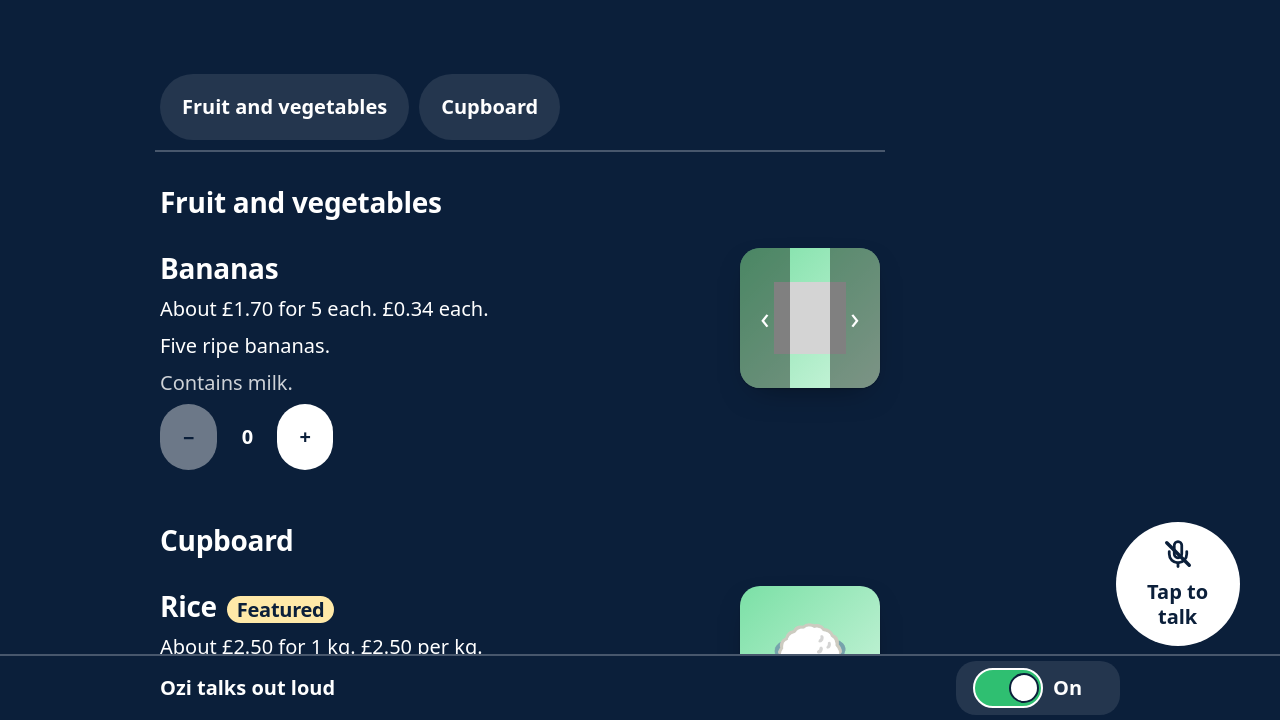
the shop page › groups by category, puts featured first, shows the gallery, the unit price and the allergens, and chooses a size
This screenshot has width=1280, height=720.
(page scrolled)
Expected: the text "Five ripe bananas." is shown, [160,332,330,359]
Expected: the text "Contains milk." is shown, [160,369,293,396]
Click the button named "Next photo of Bananas" at (855, 318), box [830,248,880,388]
(page scrolled)
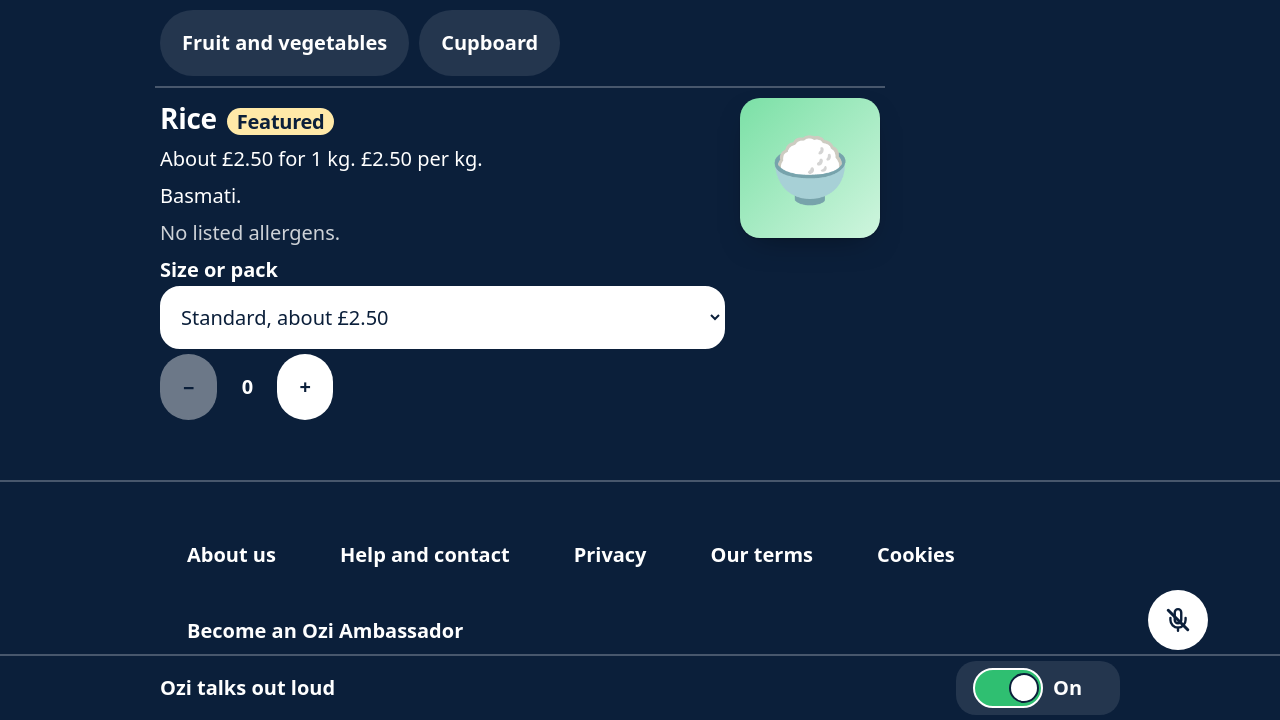
Expected: the text "Featured" is shown, [227,108,334,135]
Select "5 kg, about £8.00" in the dropdown labelled "Size or pack" at (442, 318), box [160,286,725,350]
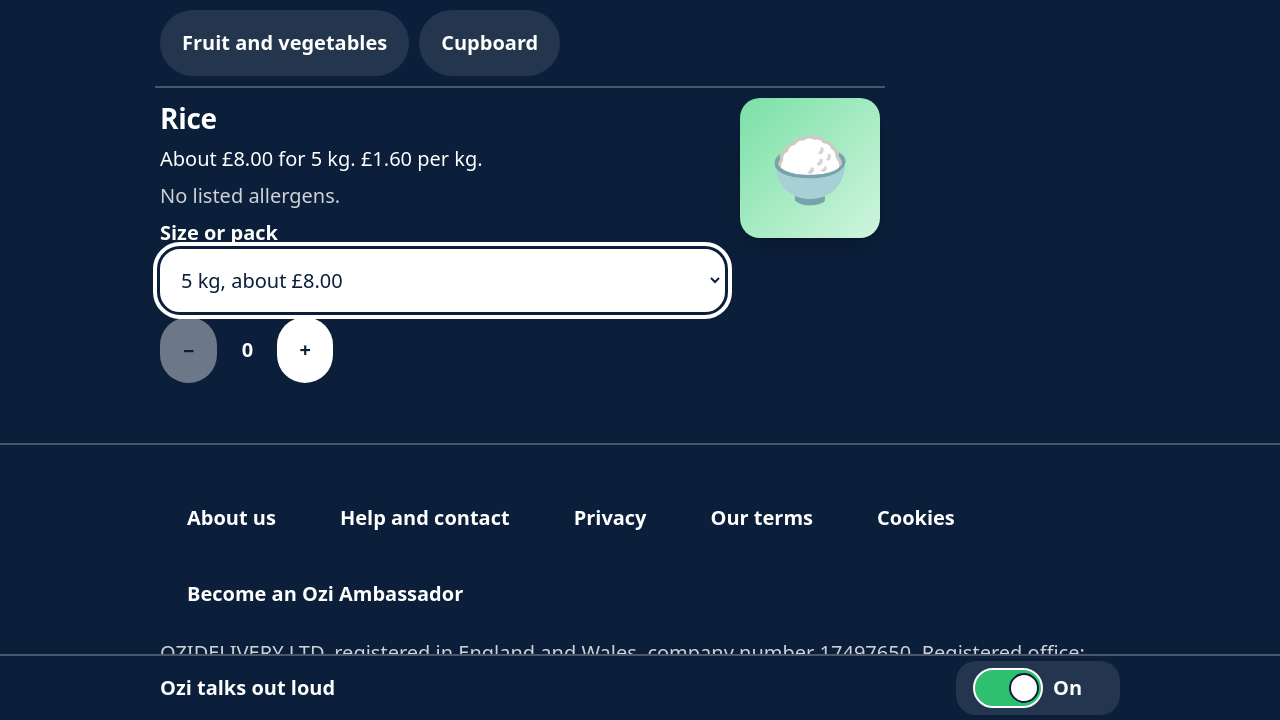
Expected: the button named "One fewer Rice, 5 kg" is disabled, [160,318,218,384]
Expected: the text "About £8.00 for 5 kg. £1.60 per kg." is shown, [160,146,483,172]
Click the button named "Add to my basket: Rice, 5 kg" at (305, 350), box [278,318,333,384]
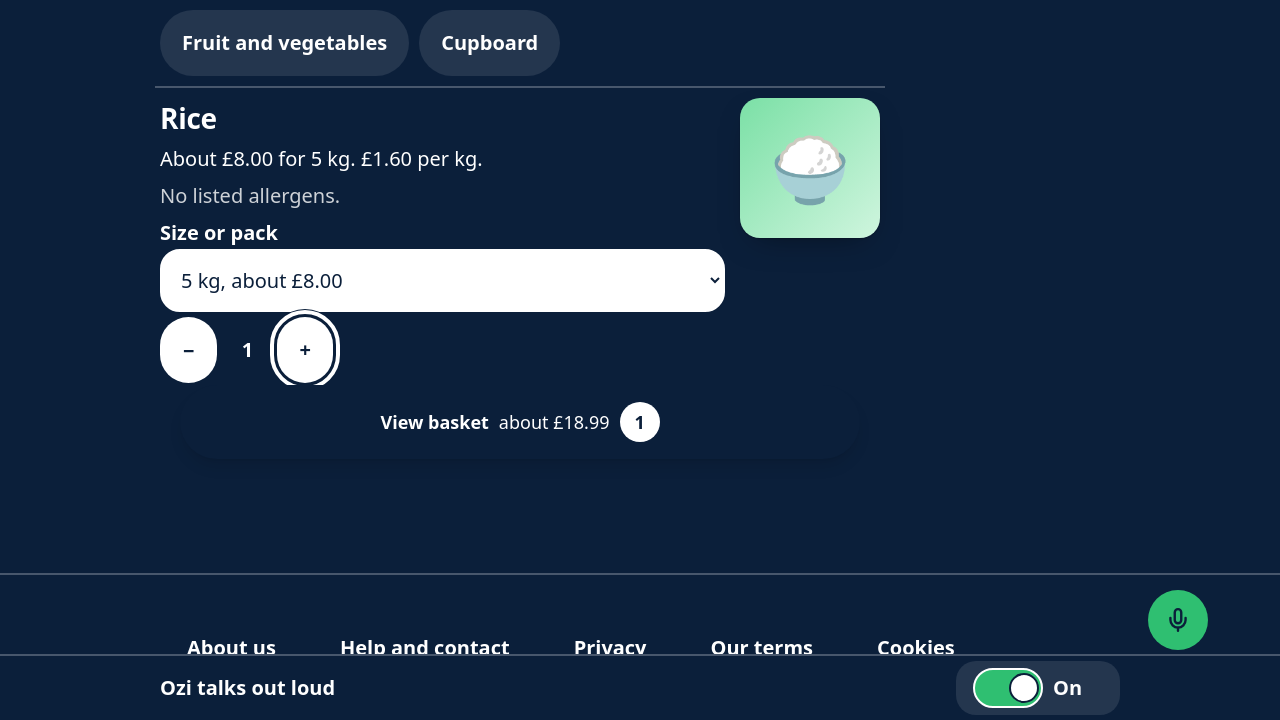
Expected: the text "1" below "Size or pack" is shown, [242,336,253,364]
Click the button named "One more Rice, 5 kg" at (305, 350), box [278,318,333,384]
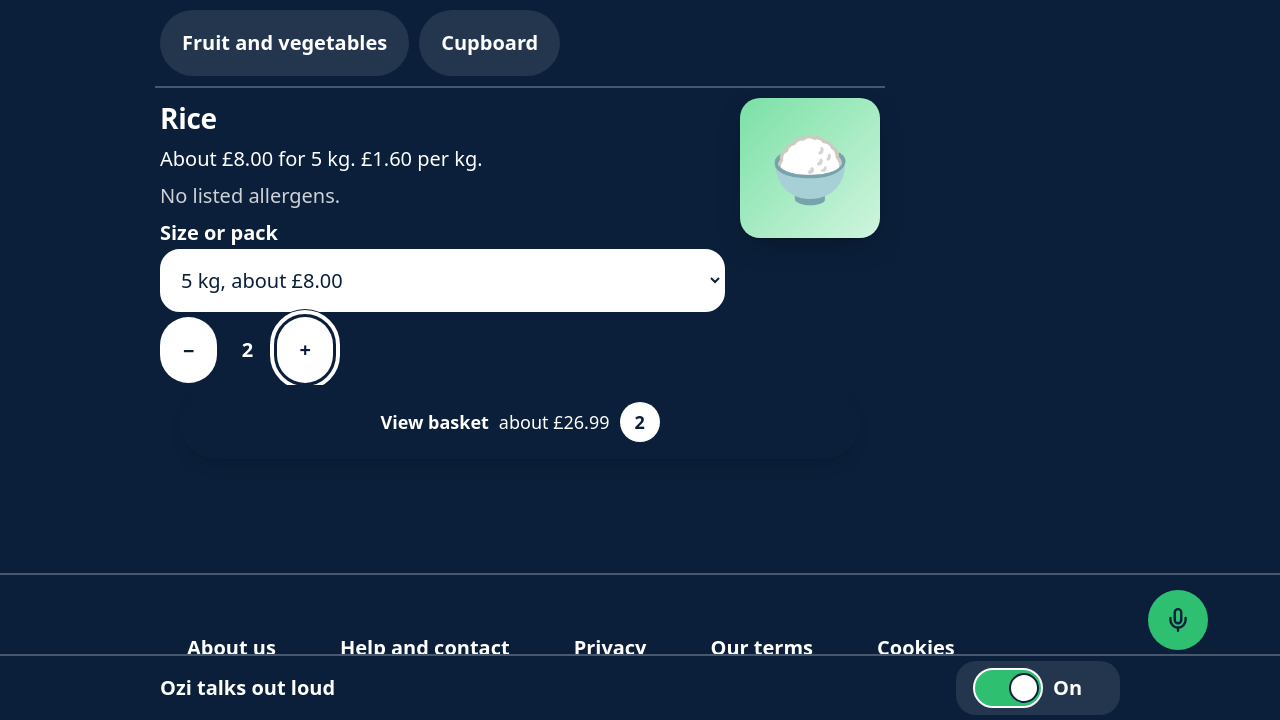
Expected: the text "2" below "Size or pack" is shown, [242,336,253,364]
Click the button named "One fewer Rice, 5 kg" at (189, 350), box [160,318,218,384]
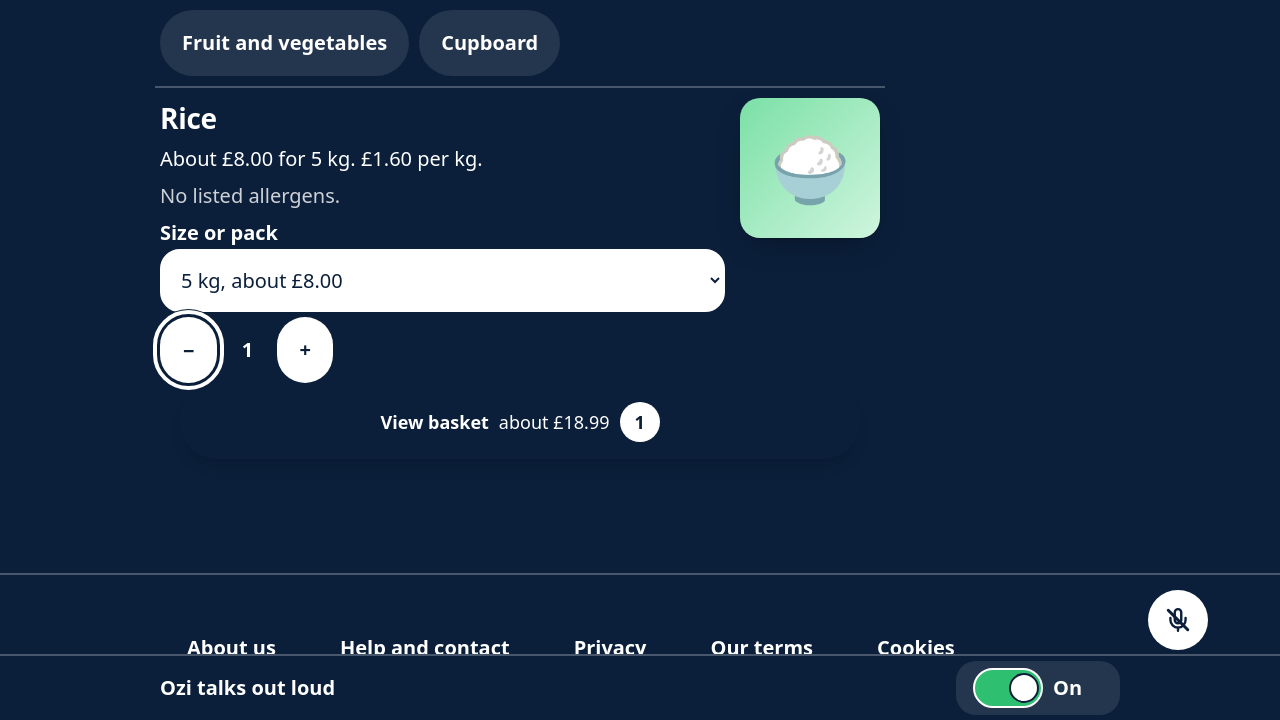
Expected: the text "1" below "Size or pack" is shown, [242,336,253,364]
